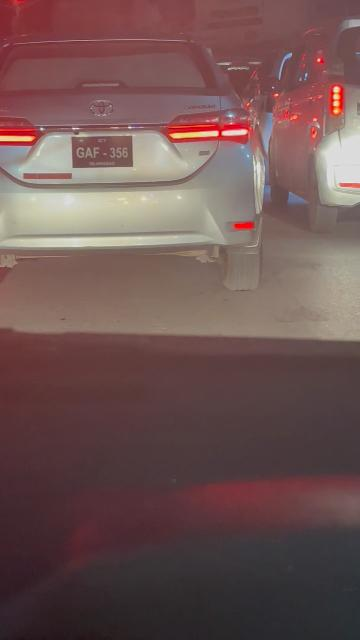plate: (69, 136, 135, 168)
